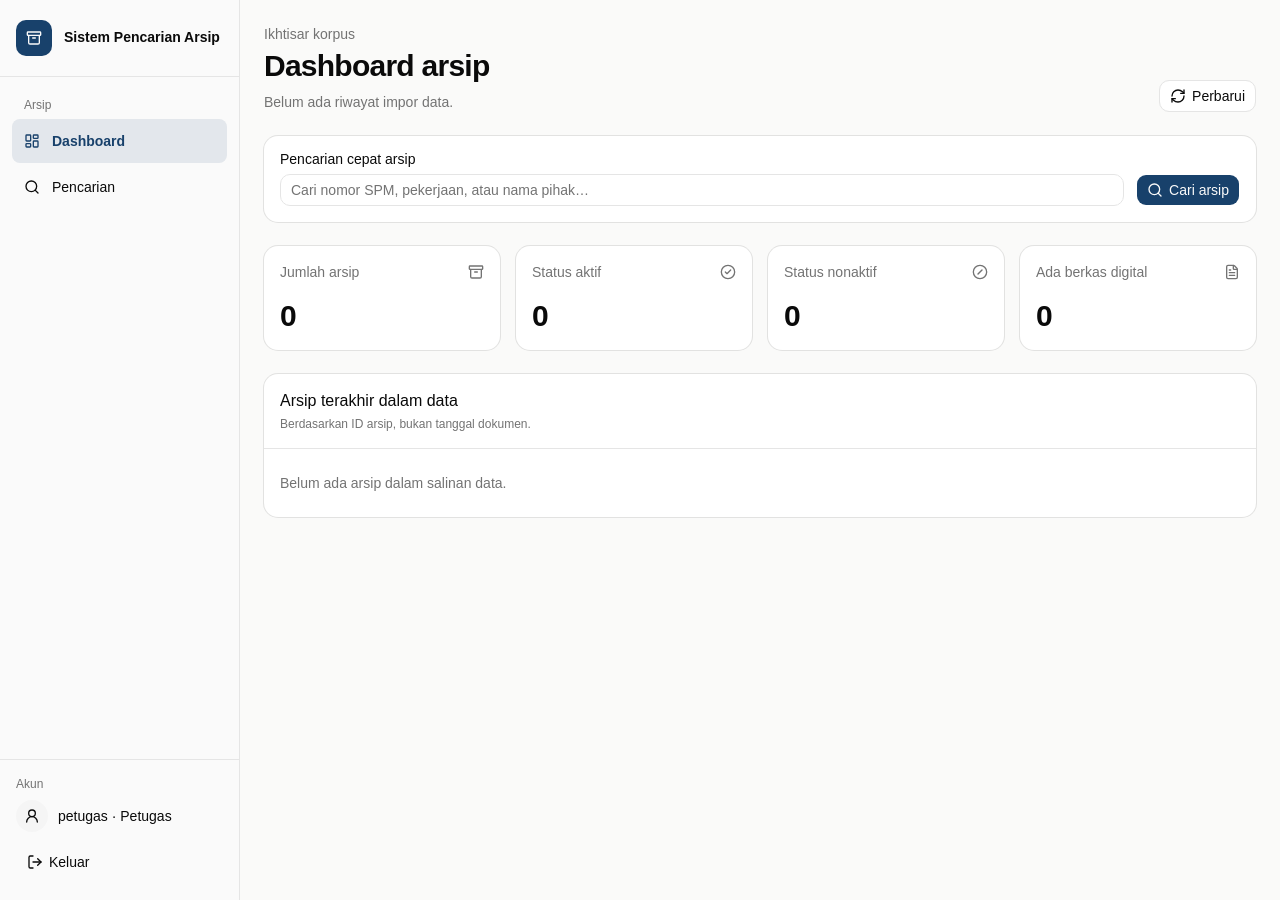
Test case: dashboard React › mengarahkan pencarian cepat ke halaman pencarian
Expected: the heading "Dashboard arsip" is shown, [264,48,490,84]
Expected: the text "Belum ada riwayat impor data." is shown, [264,94,453,110]
Type "jembatan" into the search field labelled "Pencarian cepat arsip" at coordinates (702, 190), box [280,174,1124,206]
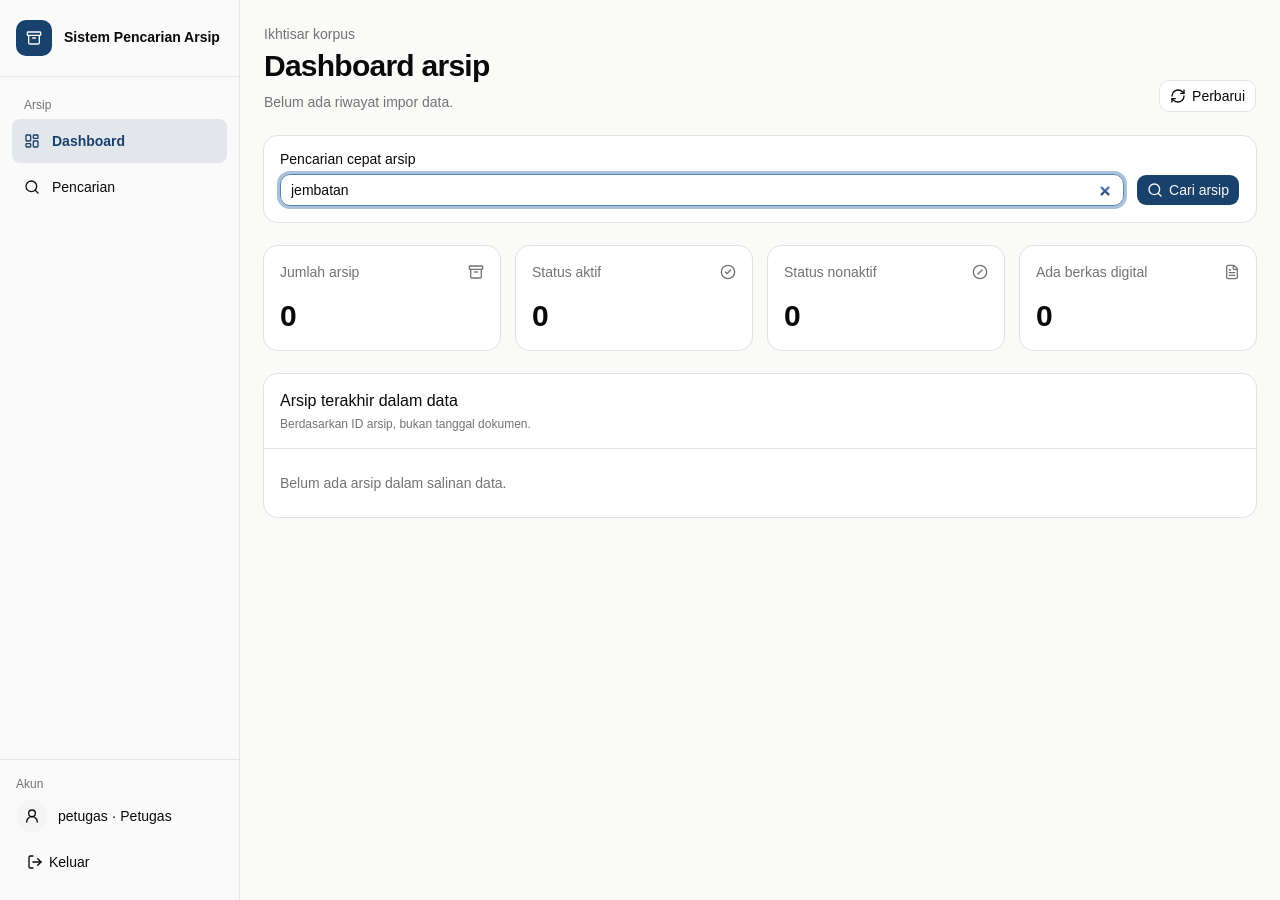
Click the button "Cari arsip" at coordinates (1188, 190), box [1136,174,1240,206]
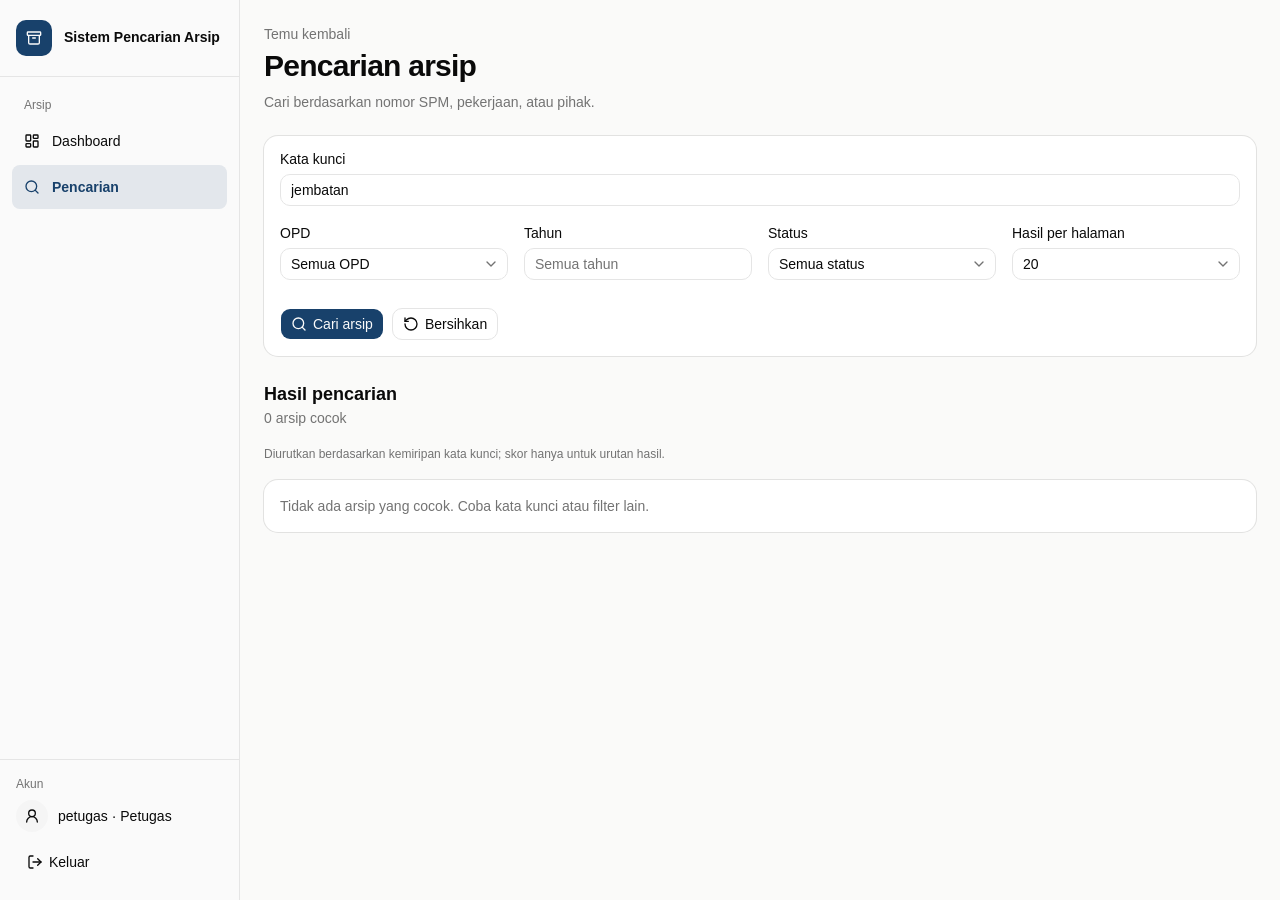
Expected: the heading "Pencarian arsip" is shown, [264,49,476,82]
